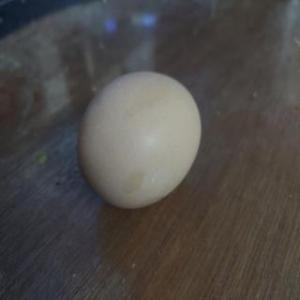egg: (74, 68, 204, 214)
